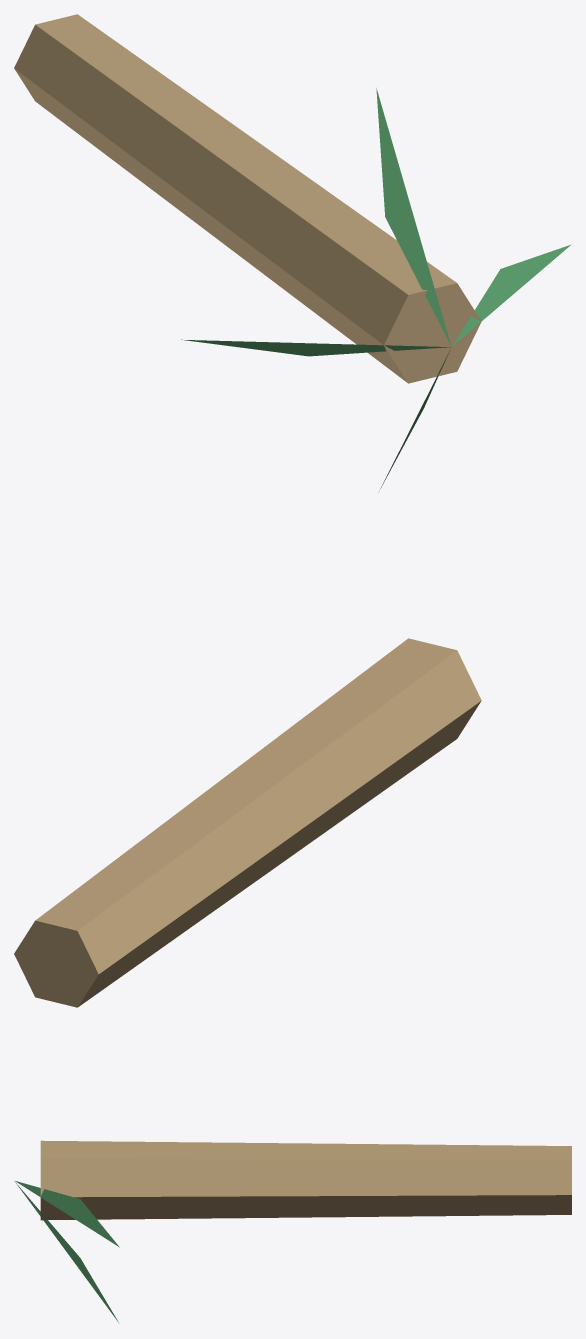
Rendered from palm_tree_low.glb.
The picture shows the model from 3 angles, top to bottom: view 1: azimuth 30°, elevation 25°; view 2: azimuth 150°, elevation 25°; view 3: azimuth 270°, elevation 25°; orthographic projection. The views are drawn at different scales.
Parts seen in each view (by area): view 1: geometry_0; view 2: geometry_0; view 3: geometry_0.
Boxes of the visible parts, x1=… form: geometry_0: x1=14, y1=14, x2=571, y2=492; geometry_0: x1=14, y1=638, x2=481, y2=1007; geometry_0: x1=14, y1=1140, x2=571, y2=1323.
Size of the model in its own units: 1.2 by 1.2 by 2.1.
